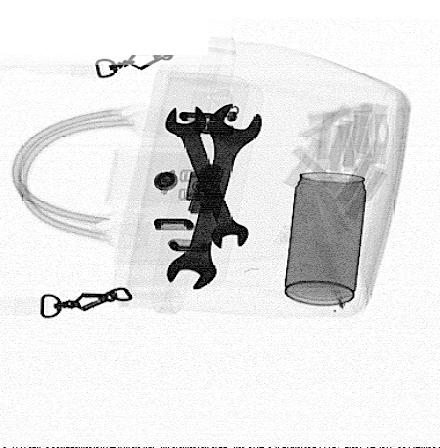Wrench: (165, 103, 262, 288), (165, 104, 247, 249)
